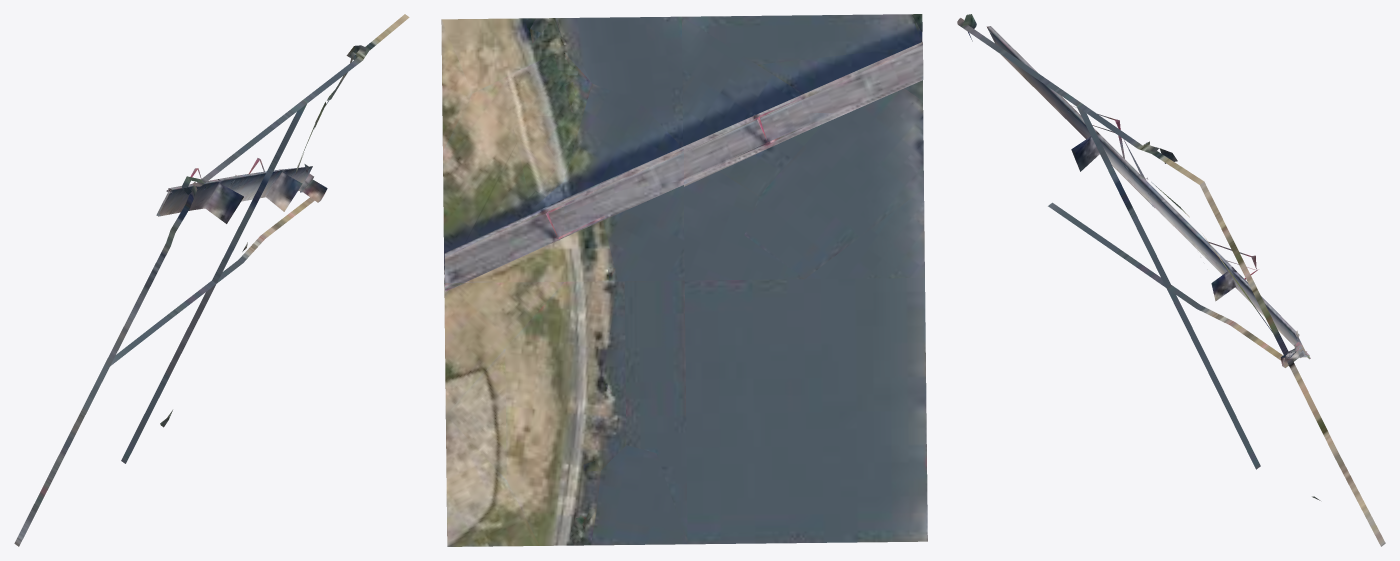
The picture shows the model from 3 angles, left to right: view 1: azimuth 30°, elevation 25°; view 2: azimuth 150°, elevation 25°; view 3: azimuth 270°, elevation 25°; orthographic projection. The views are drawn at different scales.
Size of the model in its own units: 304 by 281 by 262.
1 material, 1 textured.
